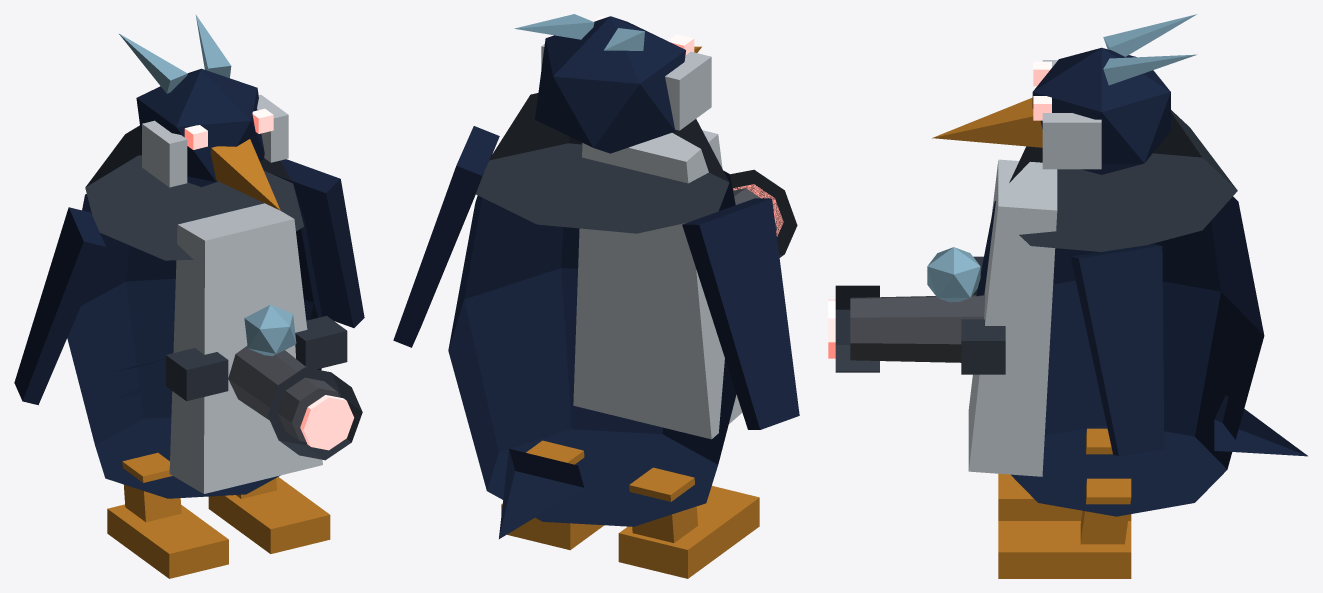
The model's file is gunner.glb.
The picture shows the model from 3 angles, left to right: view 1: azimuth 30°, elevation 25°; view 2: azimuth 150°, elevation 25°; view 3: azimuth 270°, elevation 25°; orthographic projection. The views are drawn at different scales.
Parts seen in each view (by area): view 1: IGunnerHull, IGunnerGlow; view 2: IGunnerHull, IGunnerGlow; view 3: IGunnerHull, IGunnerGlow.
Boxes of the visible parts, x1,y1,x2,y2 form: IGunnerHull: (14,14,364,578); IGunnerGlow: (184,108,354,450); IGunnerHull: (393,14,799,578); IGunnerGlow: (593,16,783,236); IGunnerHull: (835,14,1307,578); IGunnerGlow: (828,61,1051,358).
Bounding box in the file's own units: 1.15 × 1.5 × 1.3.
